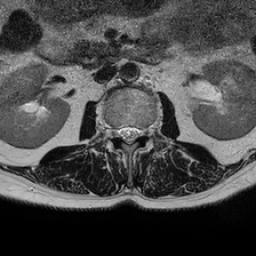CCS_normal: (125, 120, 132, 149)
LFS_normal: (140, 121, 148, 142)
LLS_normal: (132, 120, 140, 145)
RFS_normal: (109, 118, 117, 144)
RLS_normal: (117, 120, 125, 145)
